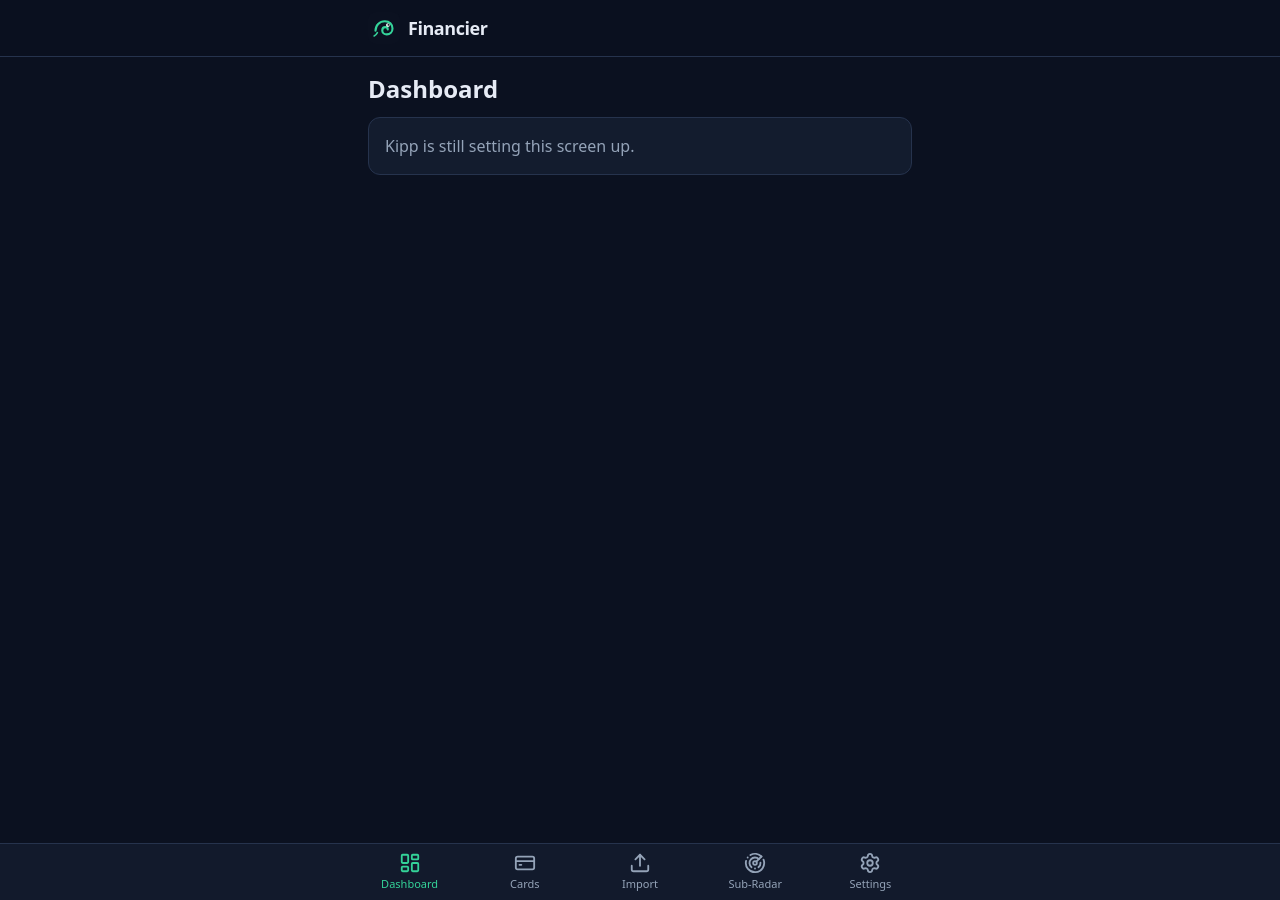
Scenario: AppShell › shows the five tabs and navigates between them
The width and height of the screenshot is (1280, 900).
Click the link "Cards" at (525, 871), box [510, 852, 540, 891]
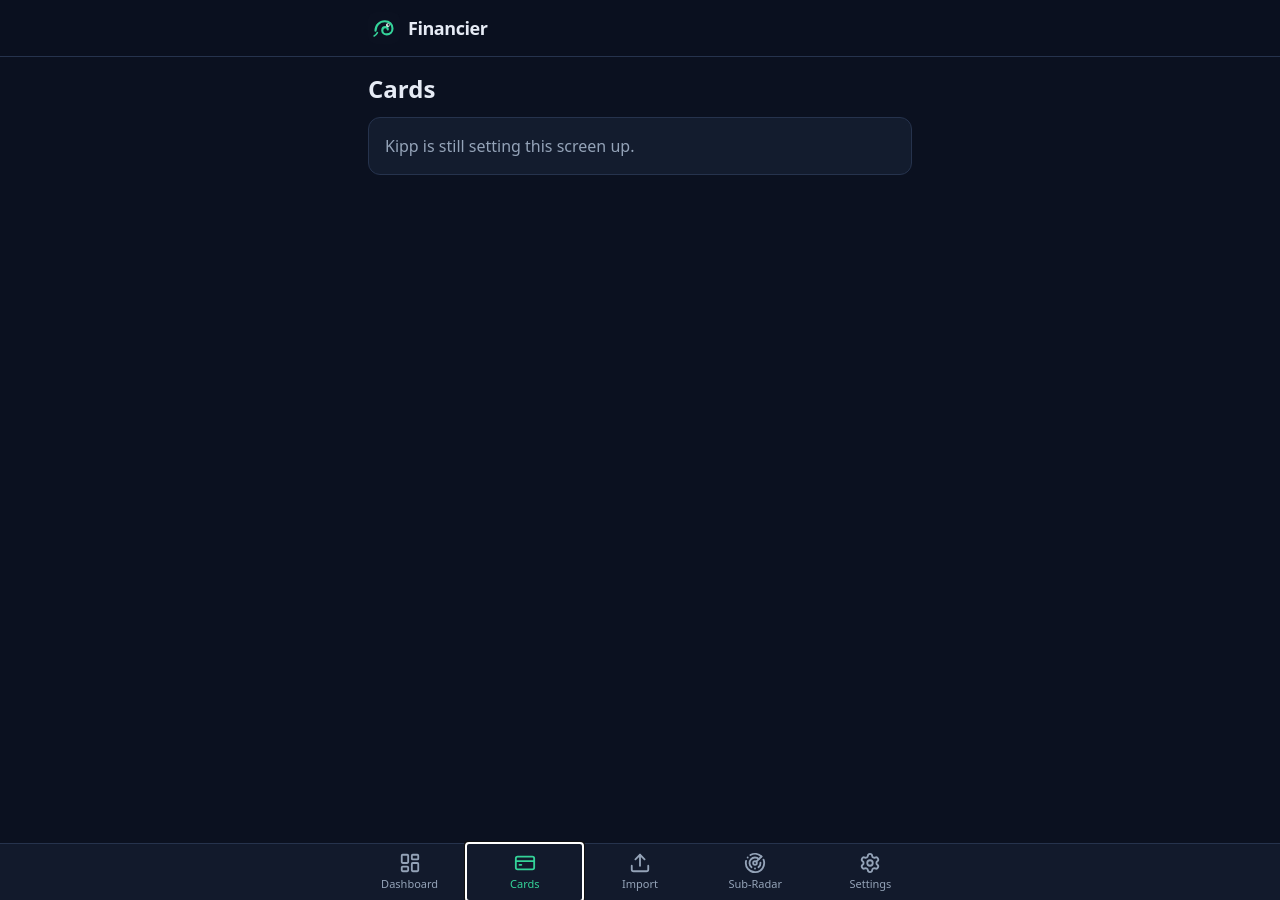
Check: the heading "Cards" is shown, box [368, 72, 435, 105]
